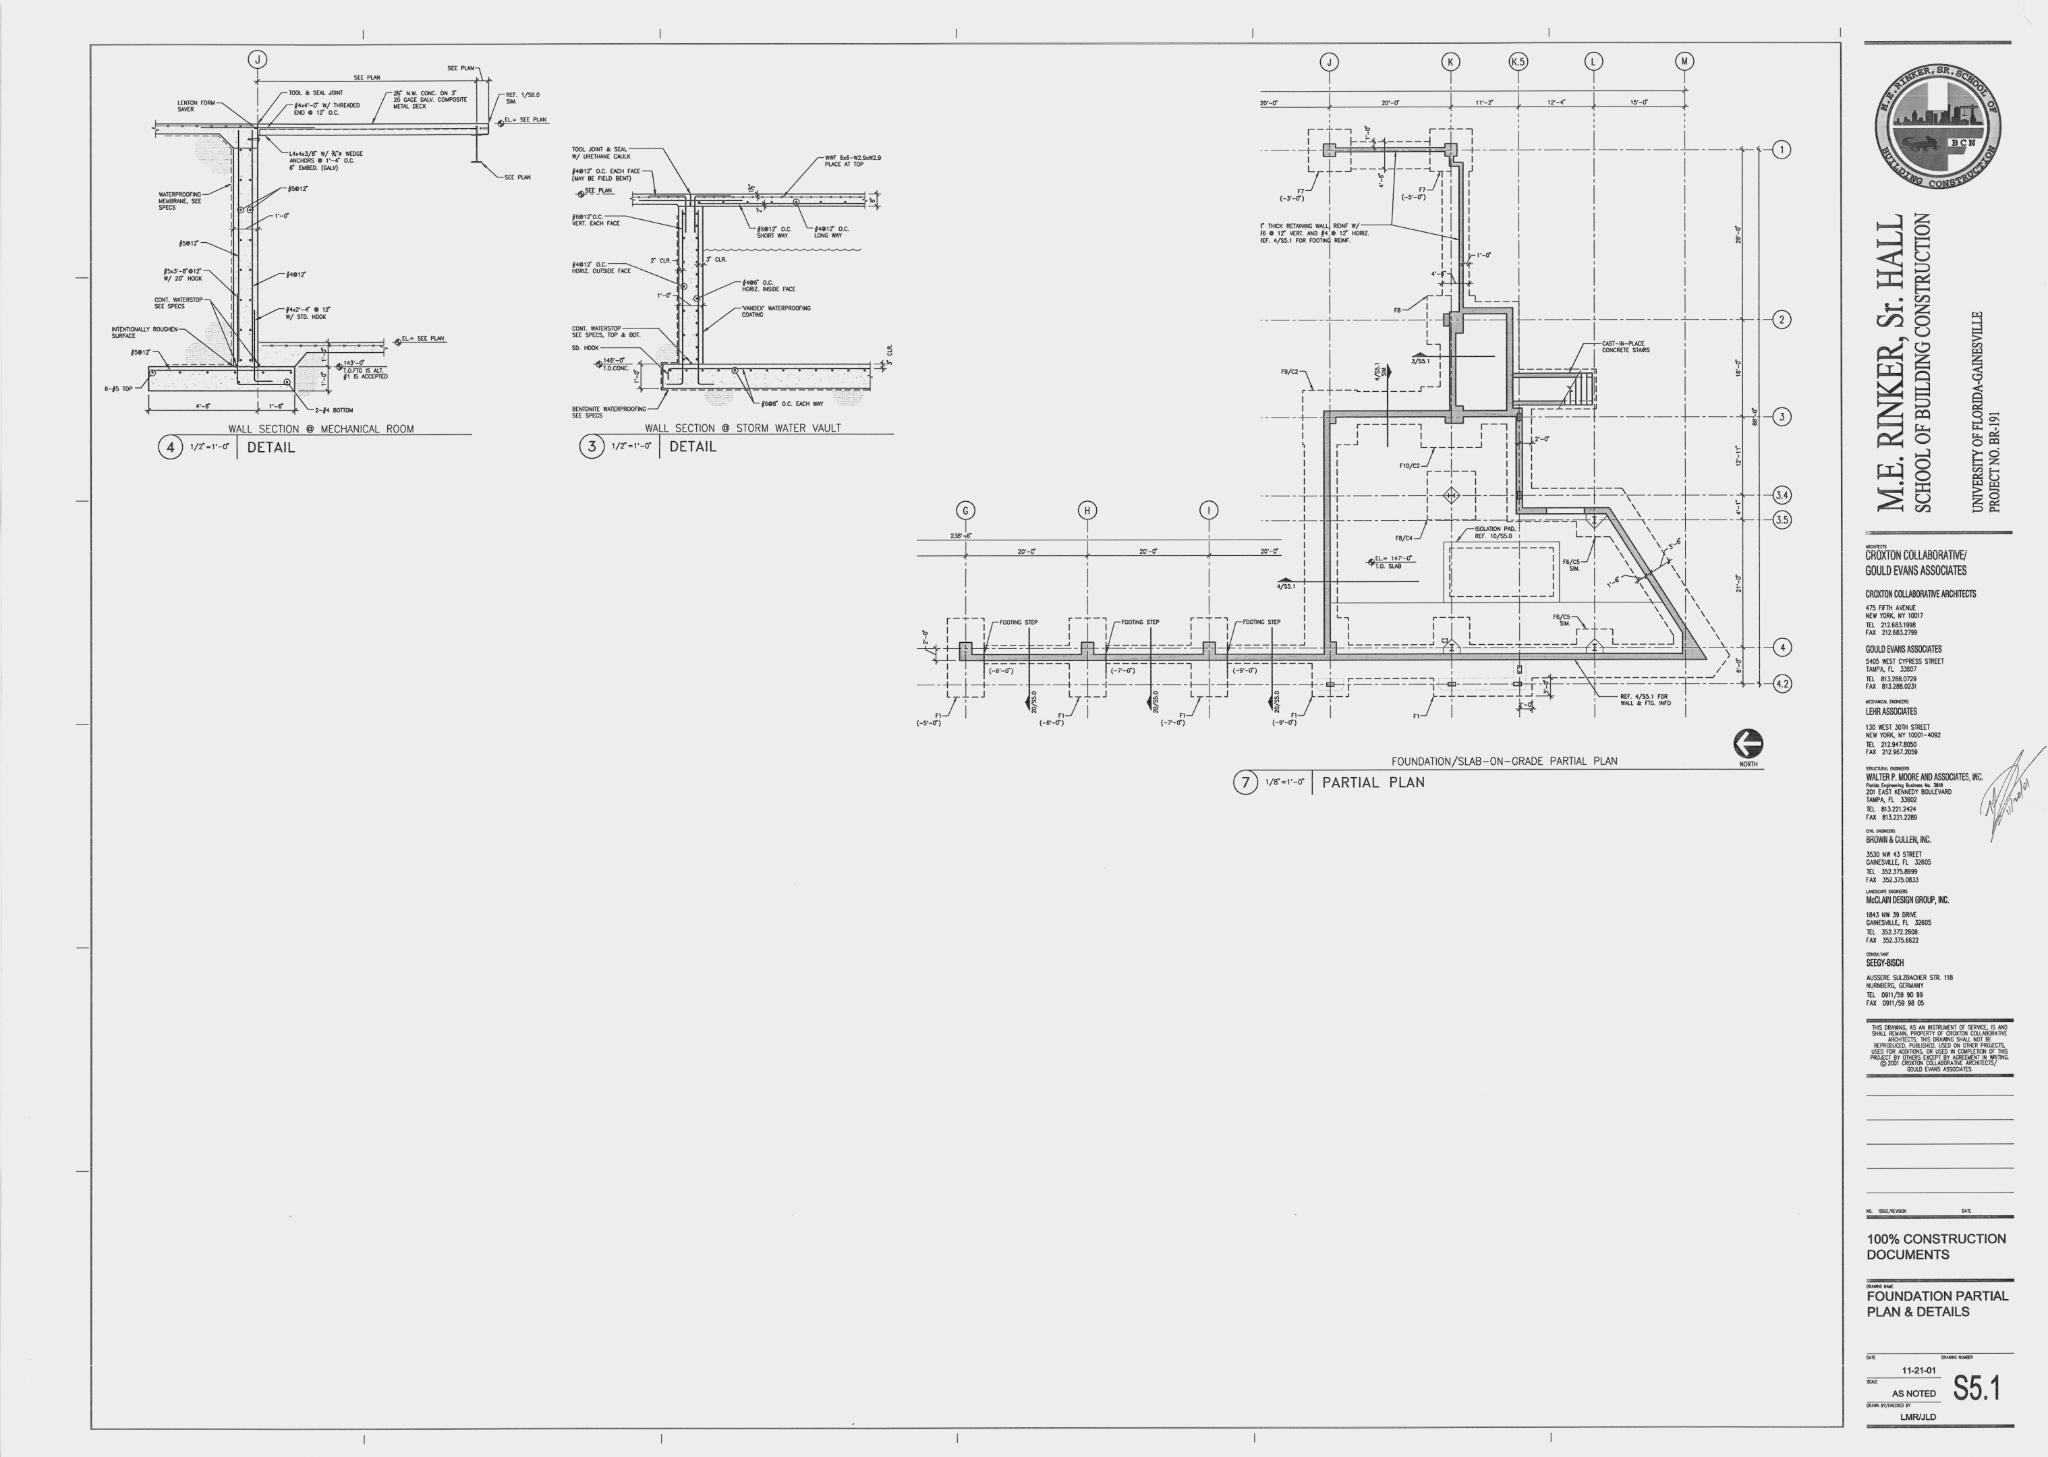elevation: (1277, 577, 1419, 591), (1373, 360, 1394, 448), (1266, 626, 1283, 714), (1145, 626, 1162, 714), (1023, 626, 1039, 714), (1409, 352, 1496, 364)
